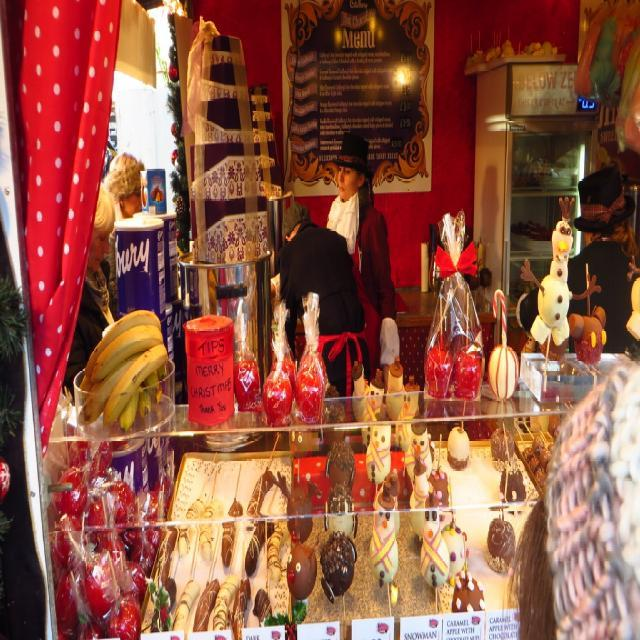Banana: (64, 298, 179, 438), (179, 496, 207, 557), (245, 515, 273, 574), (172, 577, 200, 635), (213, 574, 241, 630), (228, 579, 252, 640), (222, 500, 243, 569), (193, 579, 221, 629), (200, 499, 222, 561), (267, 522, 289, 582), (247, 467, 275, 513), (159, 527, 179, 589), (253, 587, 273, 627)
